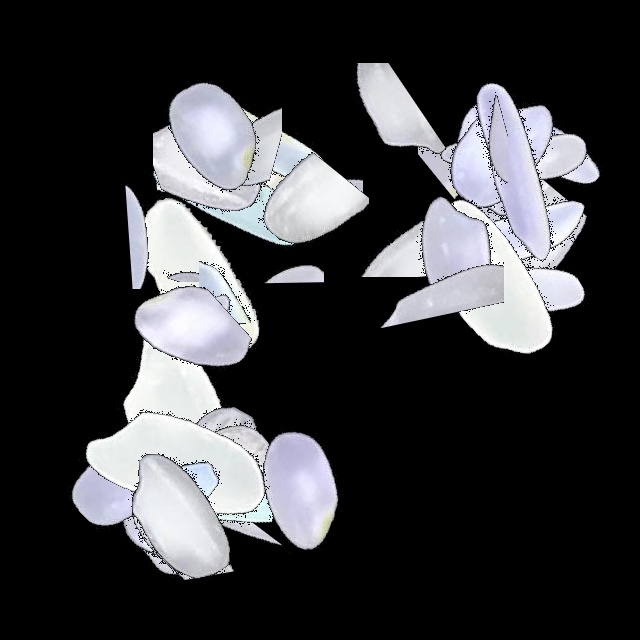Broken: (423, 139, 595, 389), (154, 37, 324, 287), (195, 9, 360, 259), (95, 372, 259, 622), (373, 60, 623, 223), (77, 396, 327, 556), (153, 29, 313, 279), (38, 280, 288, 439), (216, 109, 369, 359), (12, 404, 262, 551), (366, 120, 504, 370), (289, 140, 539, 277), (227, 63, 477, 198), (136, 79, 266, 329), (451, 143, 581, 393), (160, 0, 282, 250), (163, 181, 279, 431), (248, 37, 363, 287), (136, 312, 249, 562), (88, 507, 338, 616), (399, 19, 508, 269), (57, 182, 307, 289), (418, 10, 522, 260), (511, 51, 614, 301), (199, 150, 293, 400), (231, 111, 324, 361), (372, 142, 622, 233), (55, 427, 305, 508), (435, 0, 516, 250), (61, 202, 311, 282)
Full: (56, 305, 306, 555), (370, 110, 620, 360), (368, 35, 618, 285), (74, 149, 324, 399), (42, 390, 292, 640), (390, 31, 640, 281), (88, 345, 338, 595), (43, 388, 293, 638), (83, 354, 333, 604), (374, 24, 624, 274), (390, 173, 640, 423), (0, 351, 250, 601), (107, 75, 357, 325), (172, 365, 422, 615), (390, 46, 640, 296), (54, 341, 304, 591), (363, 159, 613, 409), (331, 130, 581, 380), (88, 10, 338, 260), (56, 389, 306, 639)
